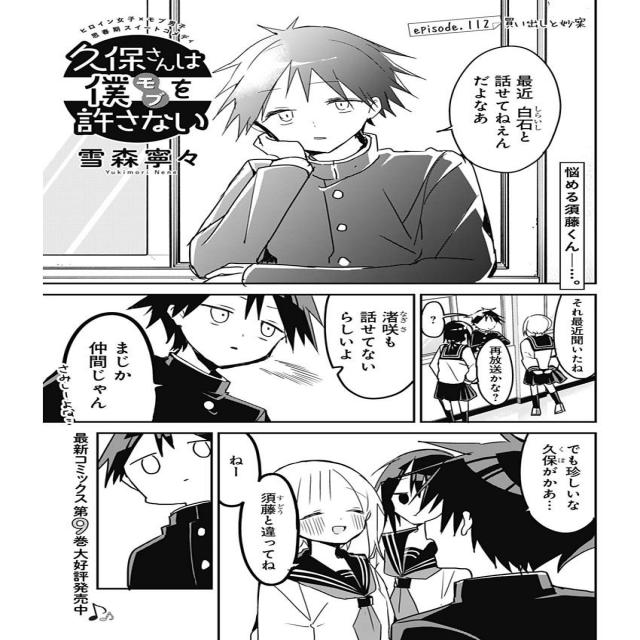Bubble: (446, 46, 562, 174), (216, 431, 302, 586), (57, 312, 162, 422), (322, 293, 417, 401), (519, 431, 598, 534), (552, 294, 599, 381), (474, 338, 515, 407), (420, 300, 448, 338)
